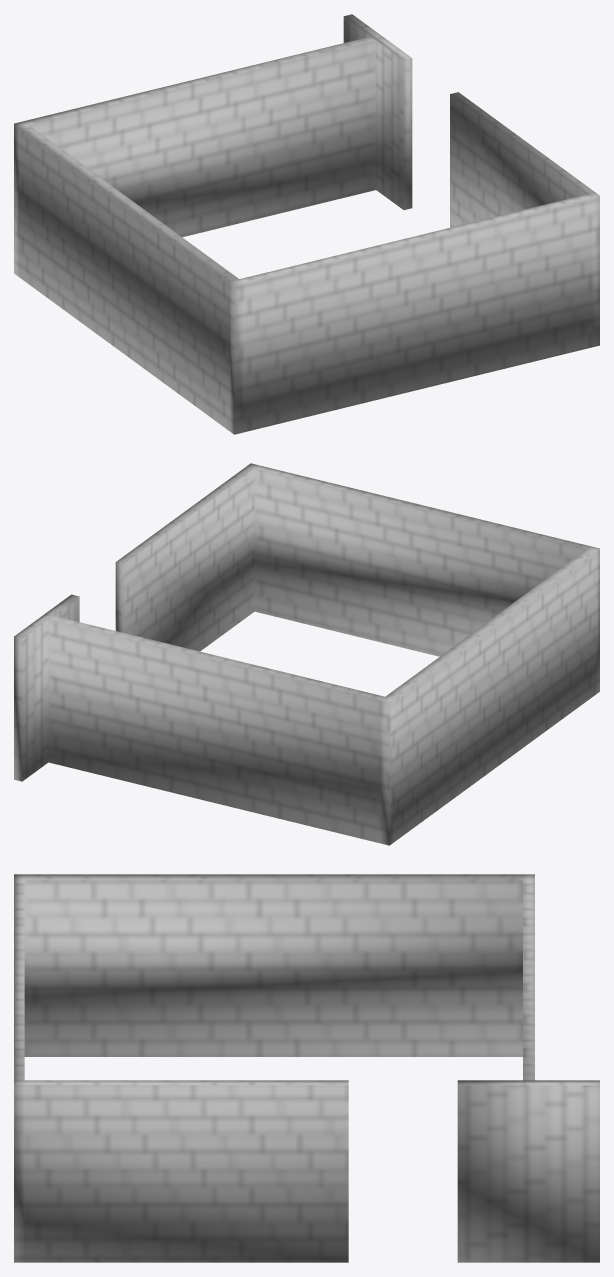
File: RoomWalls.fbx
The picture shows the model from 3 angles, top to bottom: view 1: azimuth 30°, elevation 25°; view 2: azimuth 150°, elevation 25°; view 3: azimuth 270°, elevation 25°; orthographic projection. The views are drawn at different scales.
Parts seen in each view (by area): view 1: RoomScene; view 2: RoomScene; view 3: RoomScene.
Boxes of the visible parts, x1,y1,x2,y2 form: RoomScene: [14, 14, 599, 434]; RoomScene: [14, 463, 599, 845]; RoomScene: [14, 874, 599, 1262].
Bounding box in the file's own units: 511 × 200 × 599.
